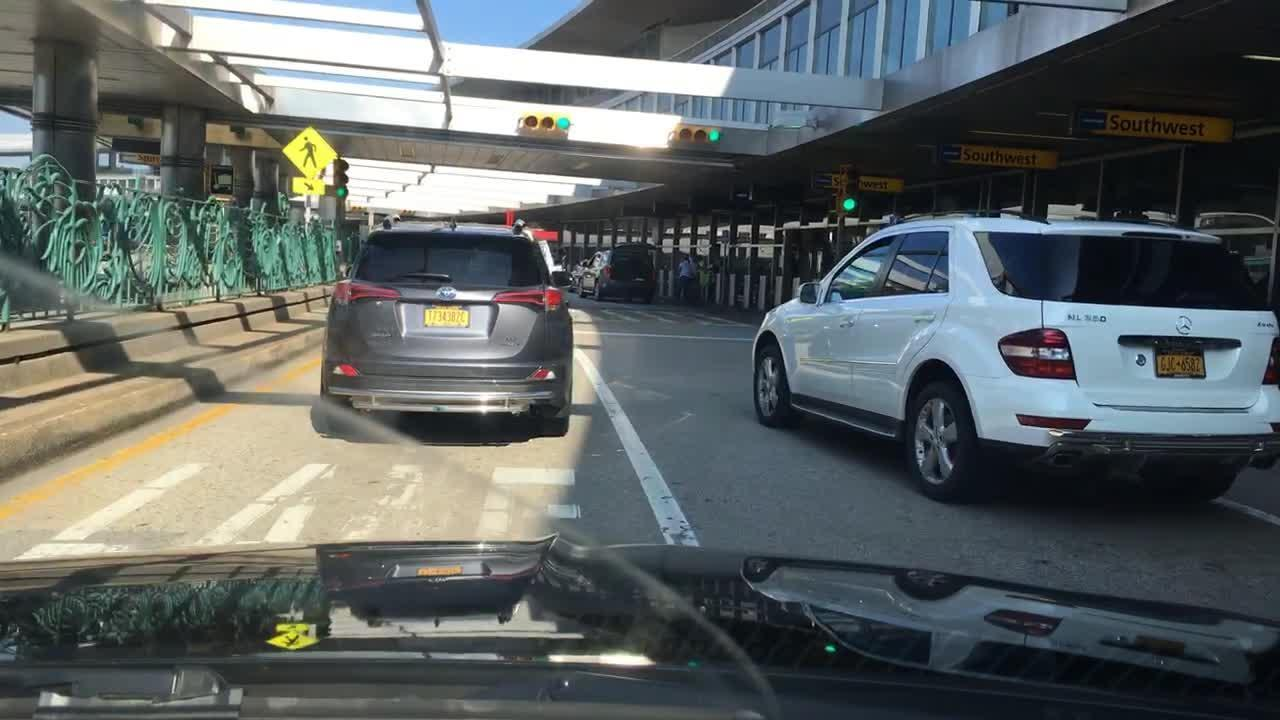Mercedes: (1169, 305, 1198, 342)
